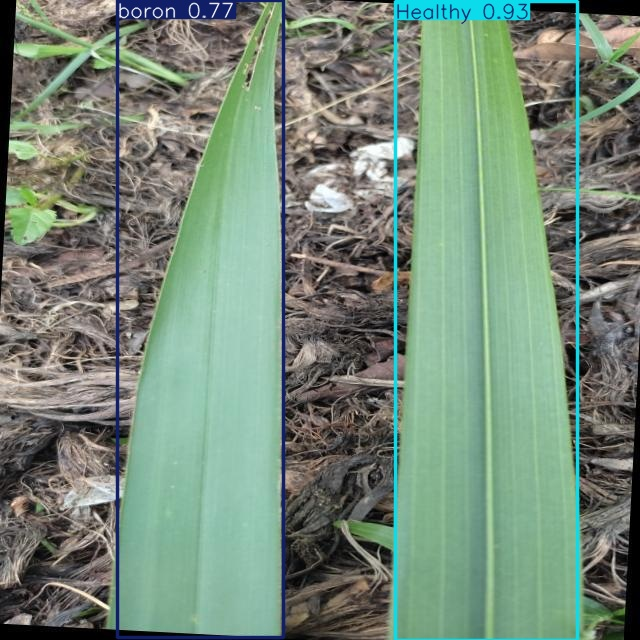Healthy: (395, 1, 577, 640)
nitrogen: (117, 0, 284, 637)
